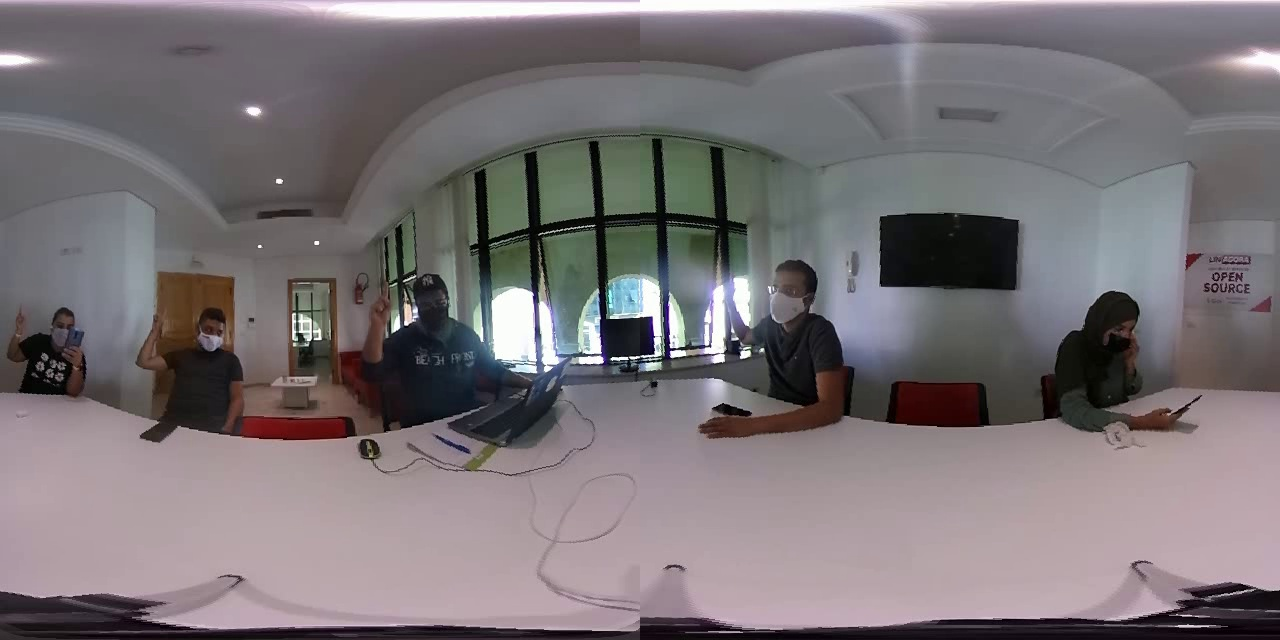person: (1017, 247, 1226, 464), (347, 246, 508, 467), (125, 258, 295, 467), (697, 228, 850, 453), (2, 249, 110, 432)
speaking: (358, 262, 402, 409), (704, 240, 756, 362), (140, 289, 174, 388), (4, 288, 28, 383)
